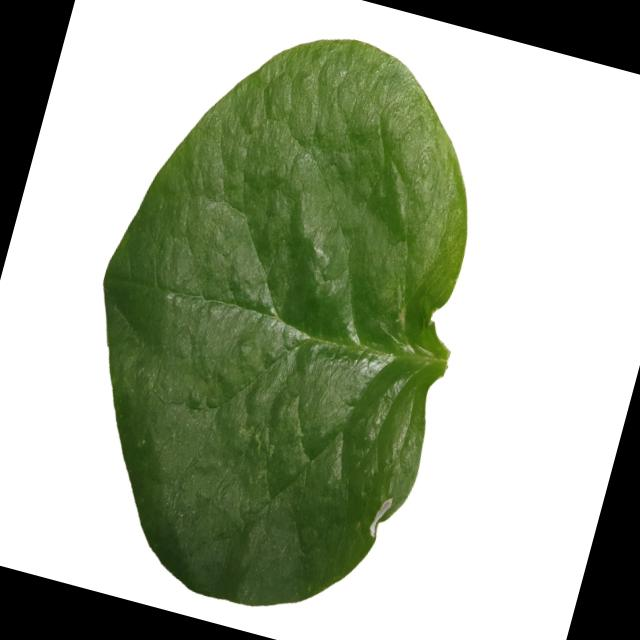Medicinal-Basale: (30, 0, 524, 640)
